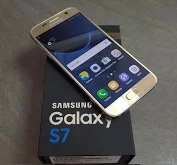samsung: (27, 6, 159, 118)
